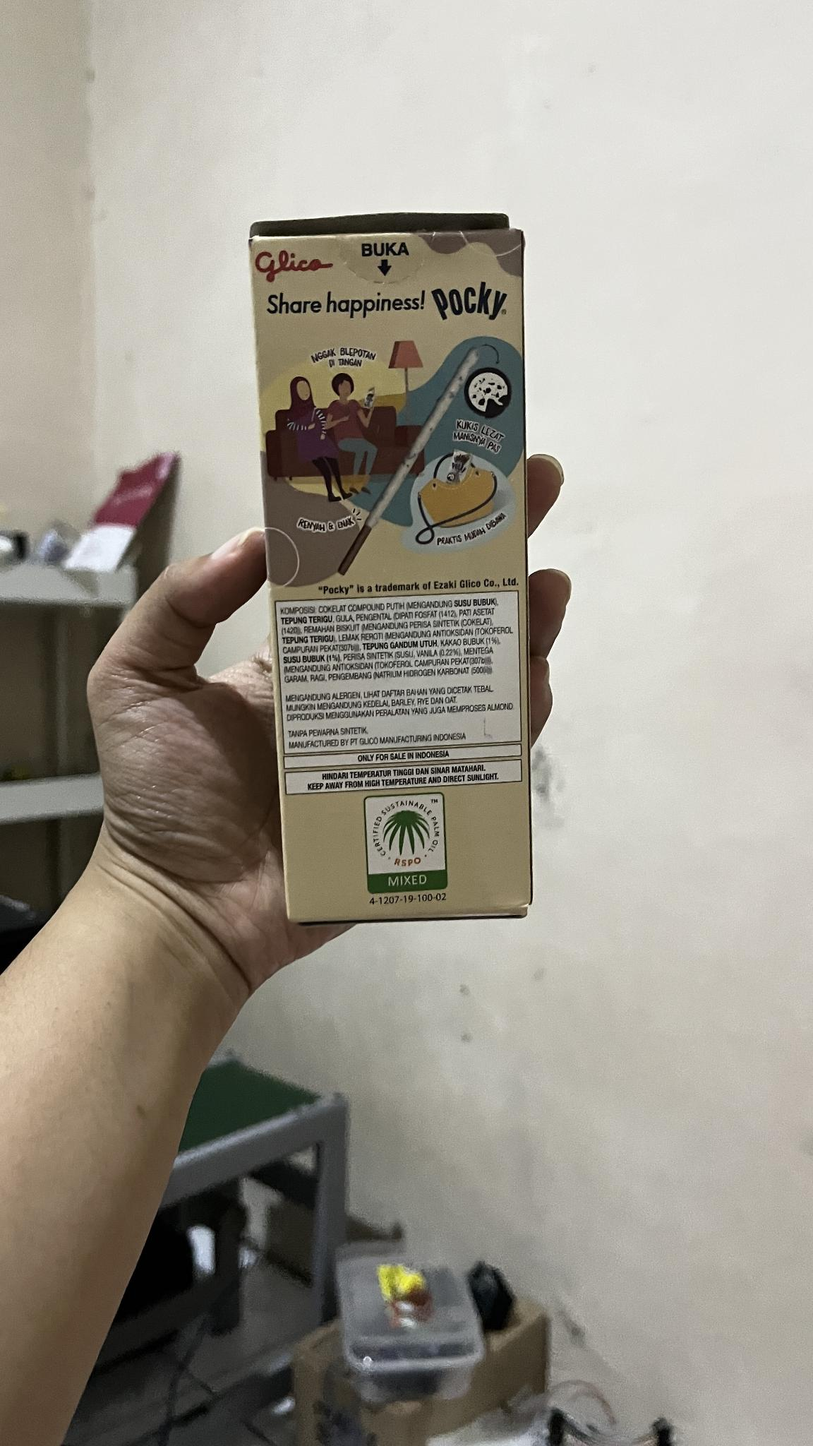Kertas: (244, 222, 534, 929)
